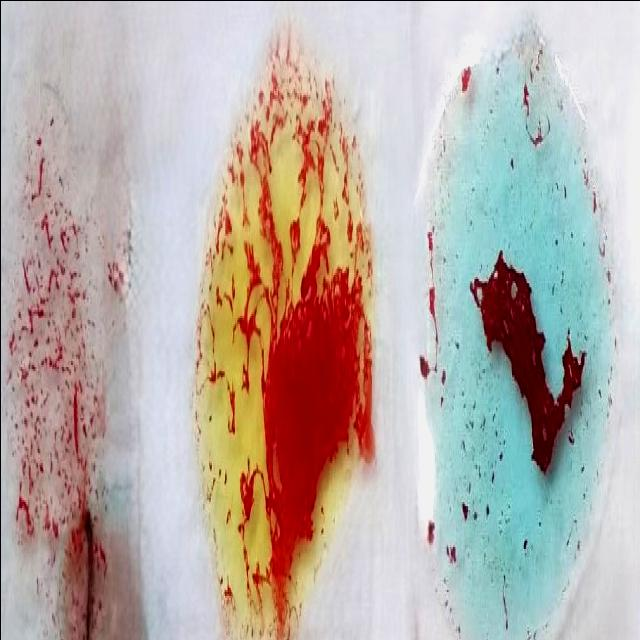A: (420, 19, 614, 640)
B: (202, 56, 369, 620)
D: (0, 21, 132, 640)
